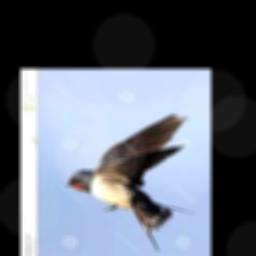Swallow: (65, 114, 193, 249)
